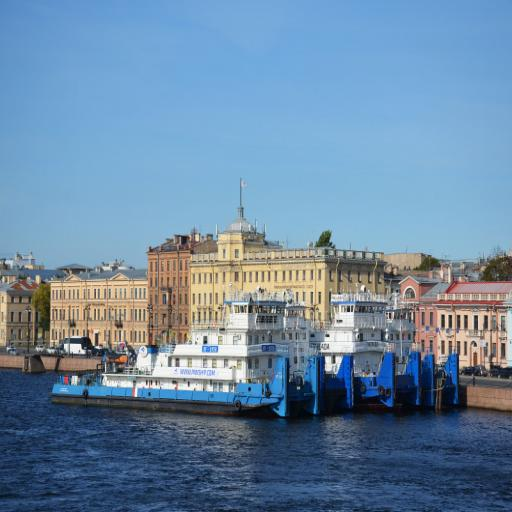tugboat: (48, 288, 327, 425)
